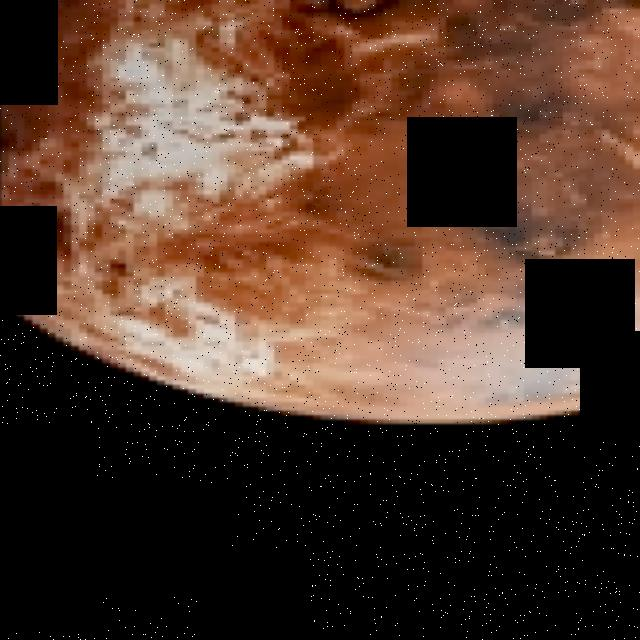Venus: (0, 0, 640, 424)
